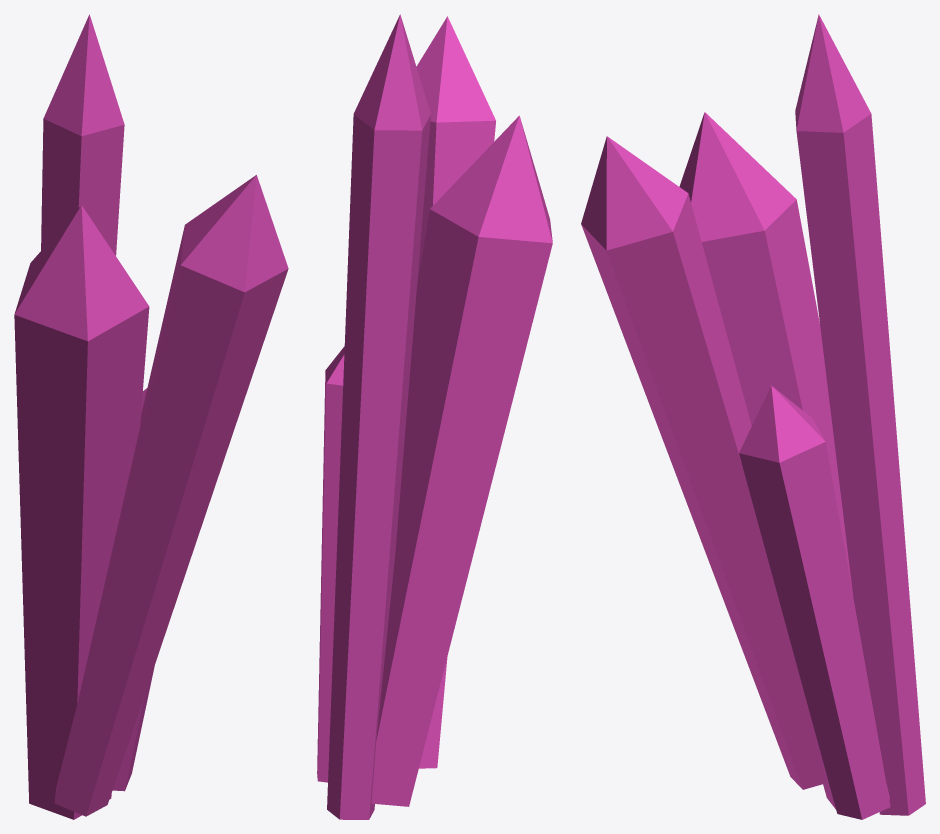
Rendered from small_crystals_21_5.fbx.
3 renders of one model, left to right at view 1: azimuth 30°, elevation 25°; view 2: azimuth 150°, elevation 25°; view 3: azimuth 270°, elevation 25°, orthographic. The views are drawn at different scales.
Parts seen in each view (by area): view 1: small crystals.033; view 2: small crystals.033; view 3: small crystals.033.
Part boxes in pixels (box(x1,y1,x2,y2)): small crystals.033: box(14, 14, 288, 819); small crystals.033: box(317, 14, 552, 819); small crystals.033: box(581, 14, 925, 819).
Bounding box in the file's own units: 98.33 × 352 × 139.
